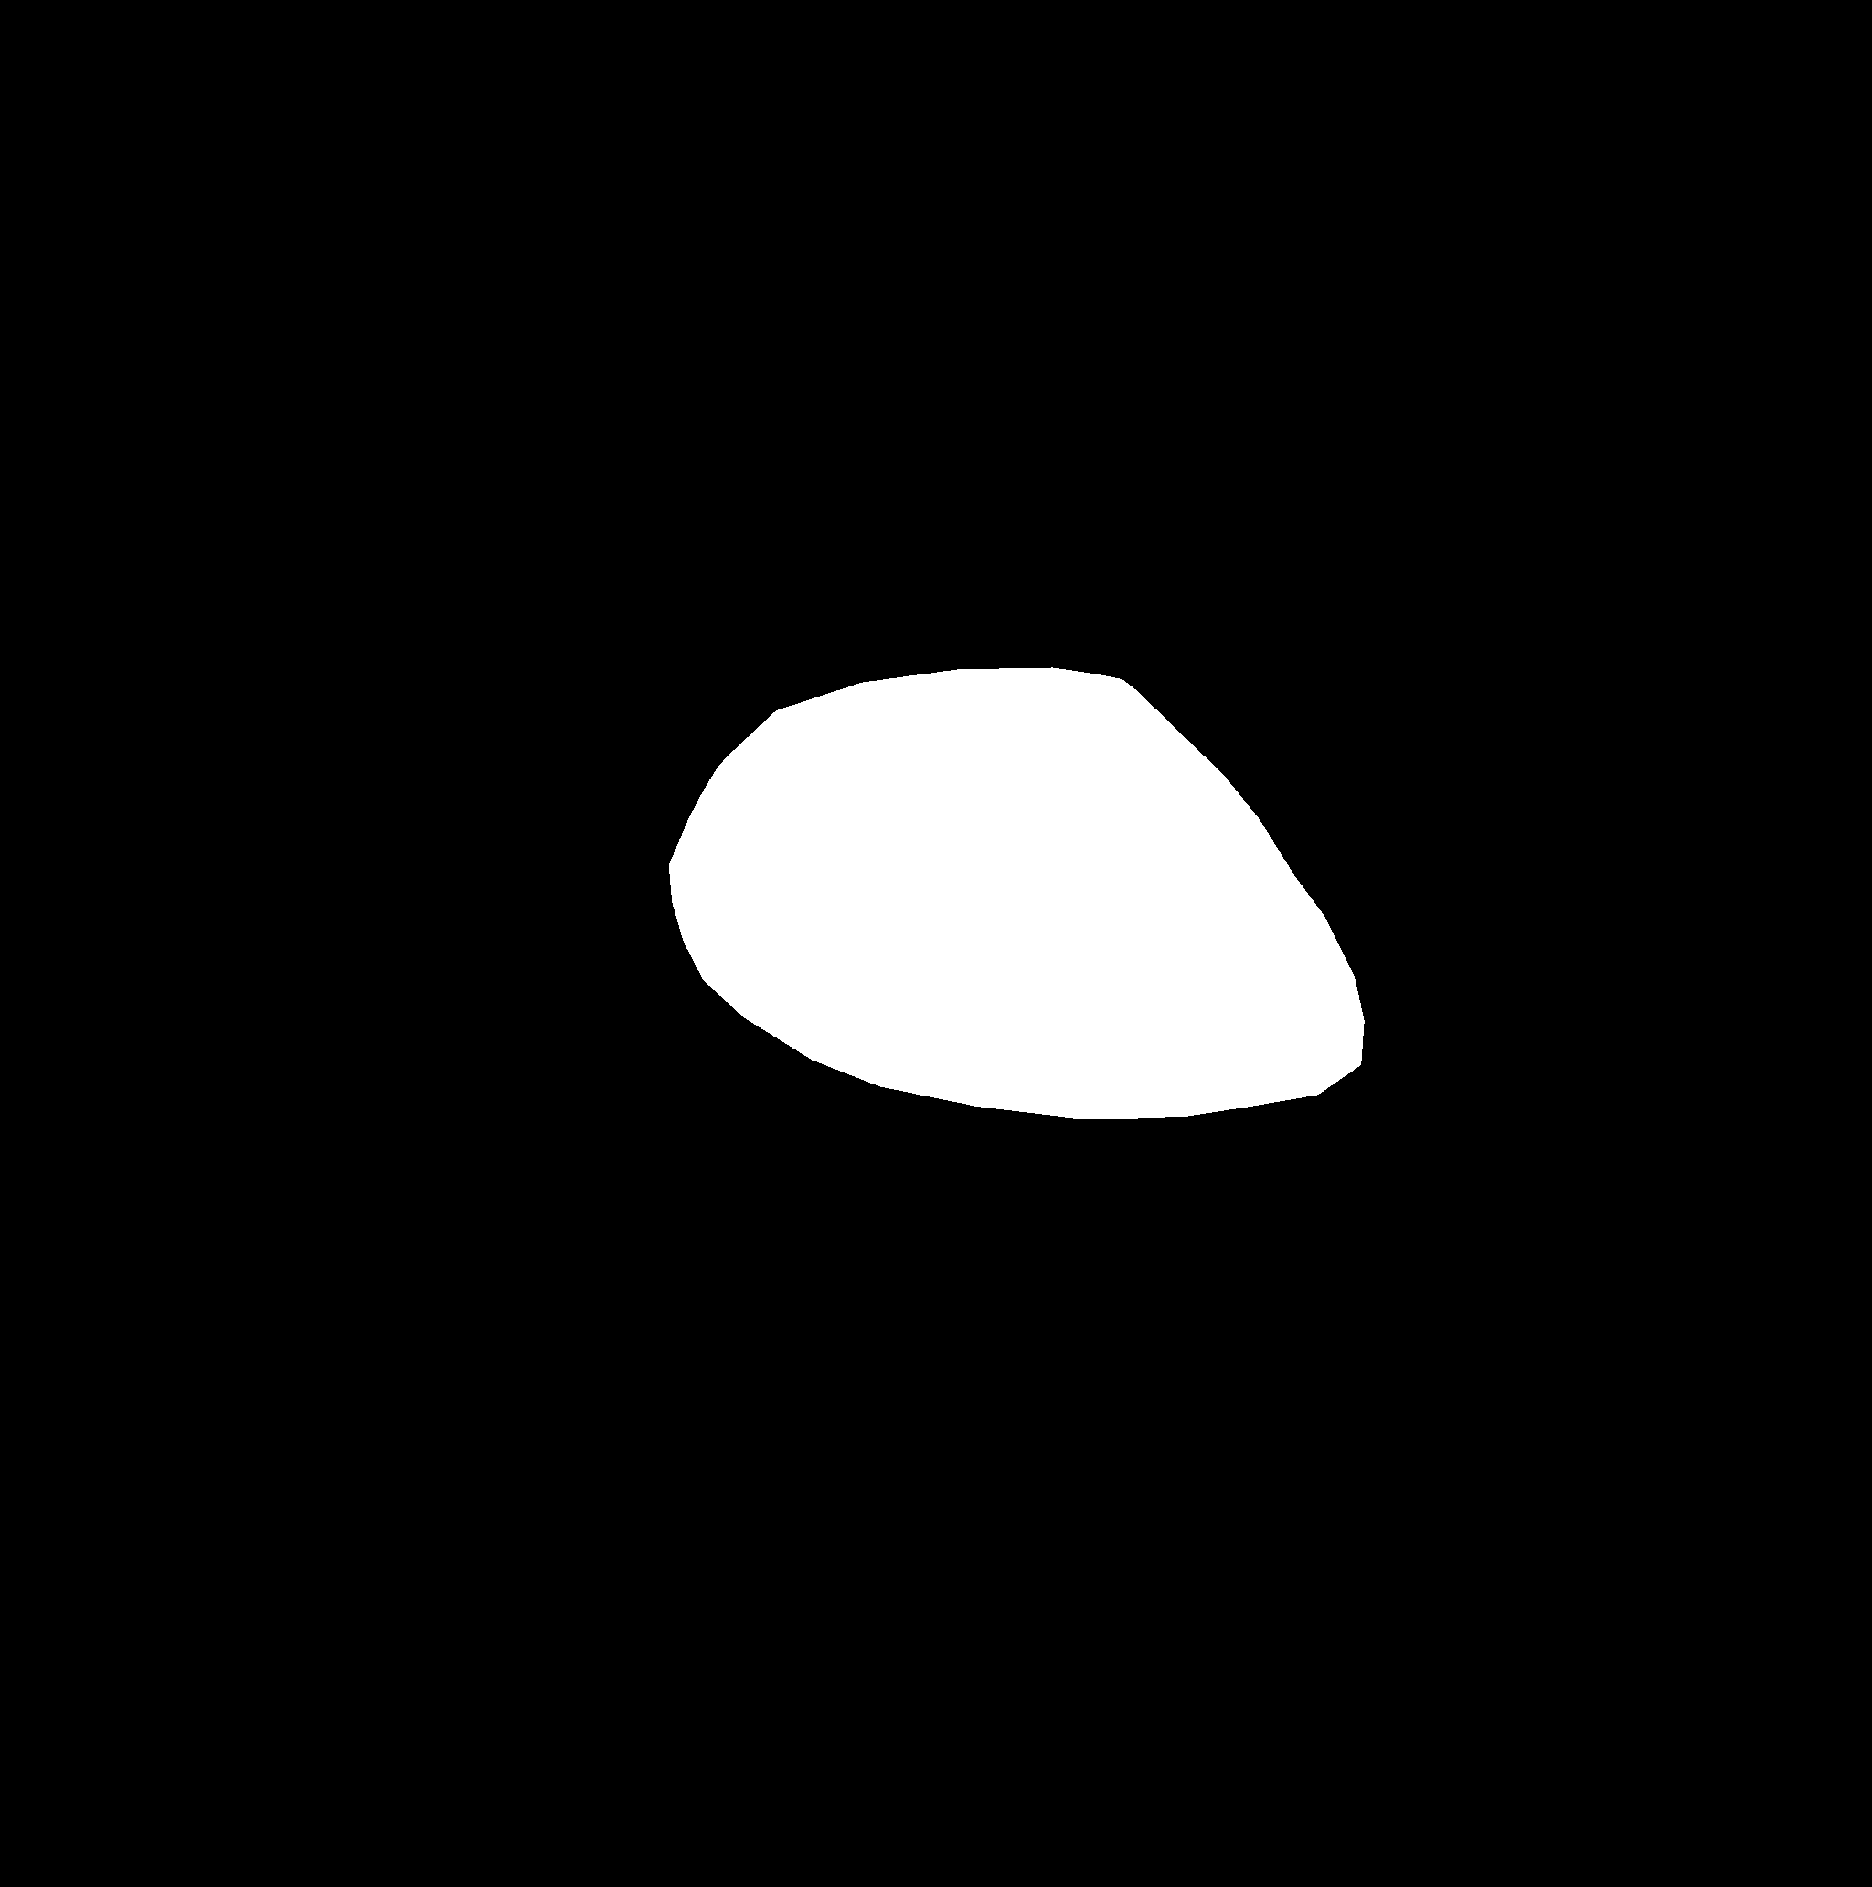heart: (672, 722, 1363, 1135)
left_lung: (315, 332, 763, 1181)
right_lung: (948, 332, 1461, 1131)
